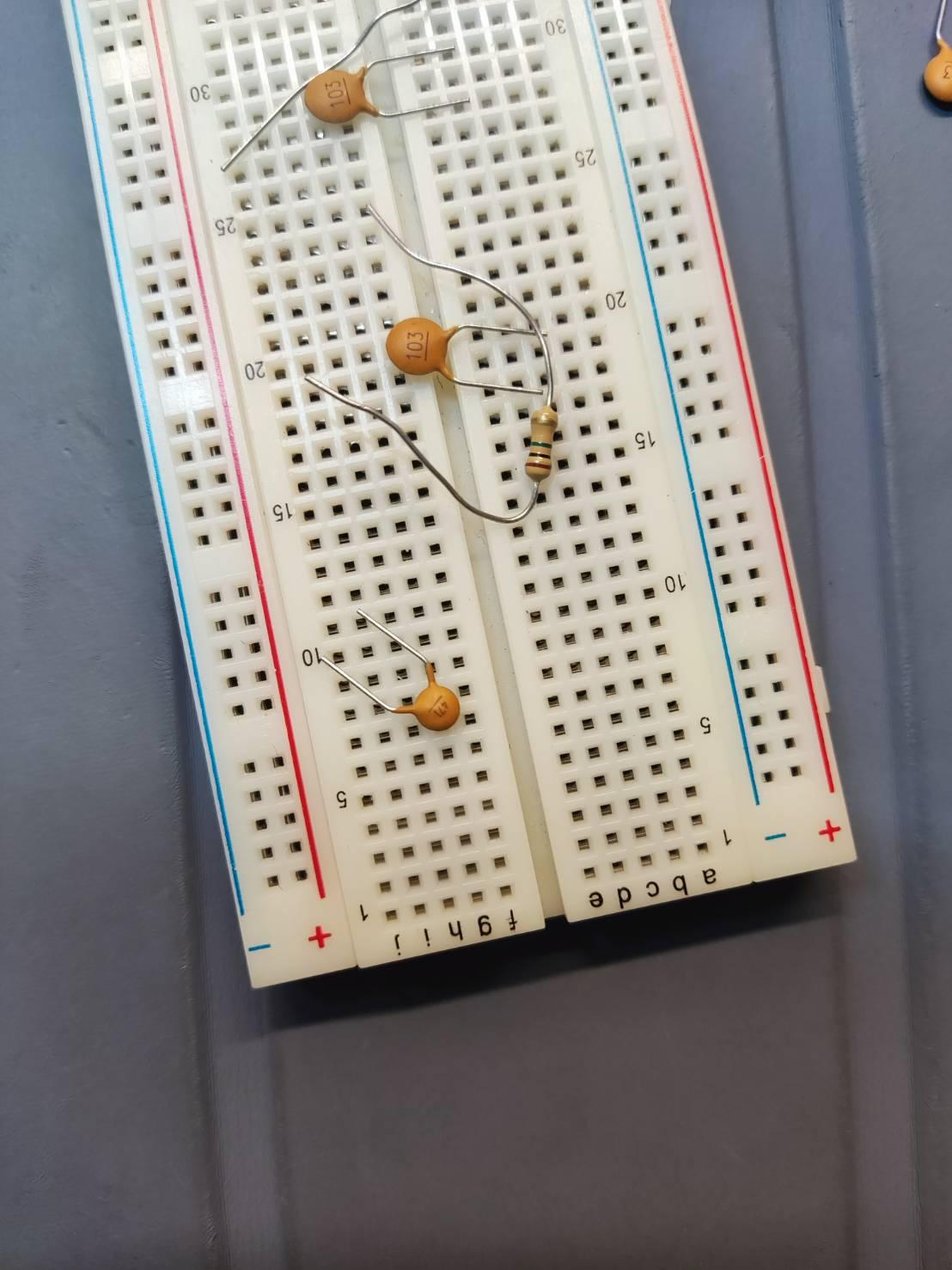resistor: (528, 406, 560, 487)
